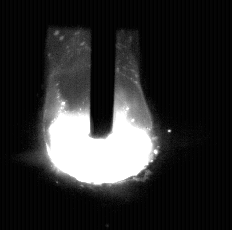arame: (89, 0, 116, 139)
poca: (46, 0, 154, 230)
